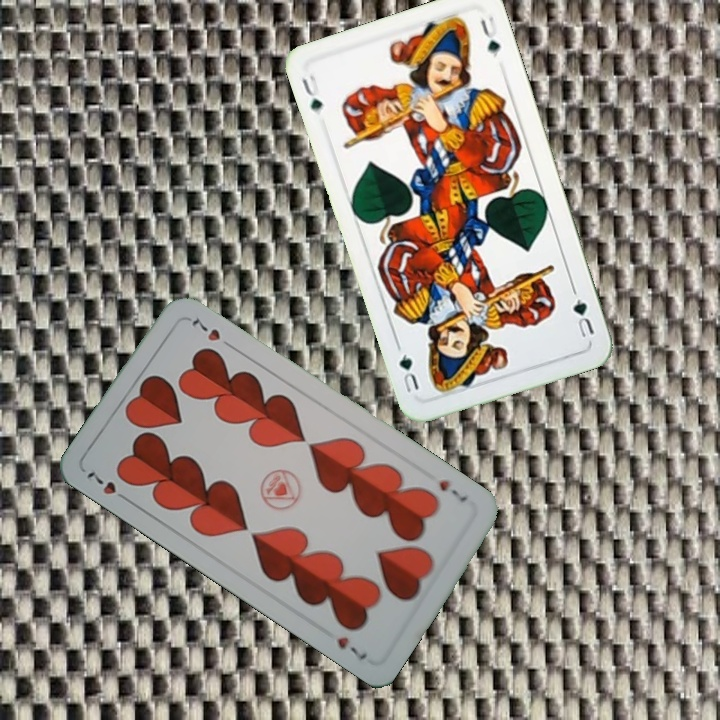GU: (568, 285, 597, 340), (297, 70, 325, 118)
H7: (82, 465, 133, 505), (435, 475, 470, 505)
